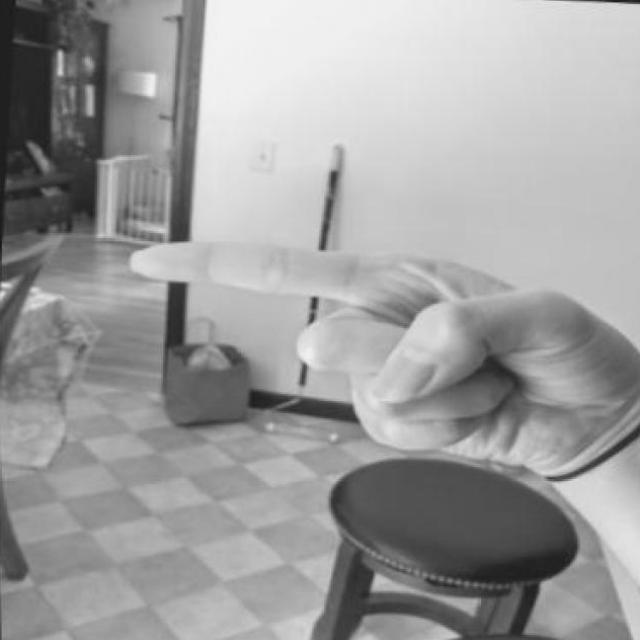G: (116, 197, 640, 491)
